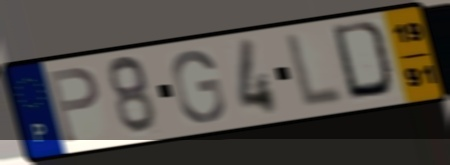4: (234, 35, 280, 120)
8: (105, 54, 159, 139)
D: (329, 18, 399, 103)
G: (169, 48, 228, 125)
L: (283, 29, 348, 112)
P: (44, 65, 102, 147)
